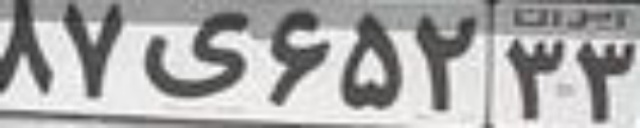2: (415, 15, 472, 112)
3: (507, 38, 568, 119), (578, 39, 634, 123)
5: (339, 13, 403, 107)
6: (264, 10, 330, 105)
7: (61, 2, 128, 99)
8: (0, 0, 52, 93)
ye: (141, 11, 251, 98)
